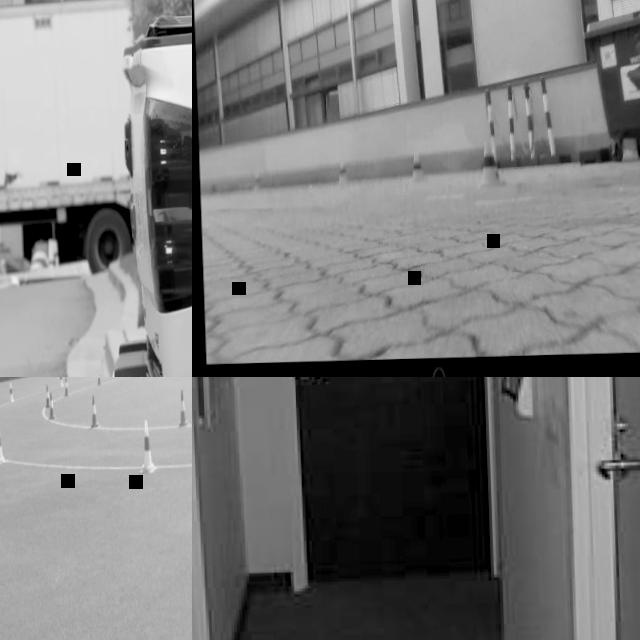Safety Cone: (475, 141, 505, 186), (138, 420, 155, 473), (30, 241, 51, 273), (409, 153, 426, 180), (177, 389, 187, 426), (89, 394, 99, 427), (336, 161, 348, 184), (0, 420, 5, 463), (47, 392, 54, 418), (253, 173, 261, 190), (45, 384, 50, 407), (9, 381, 14, 401), (63, 377, 68, 394), (58, 377, 63, 385), (96, 377, 100, 383)
vehicle: (37, 0, 192, 377)
